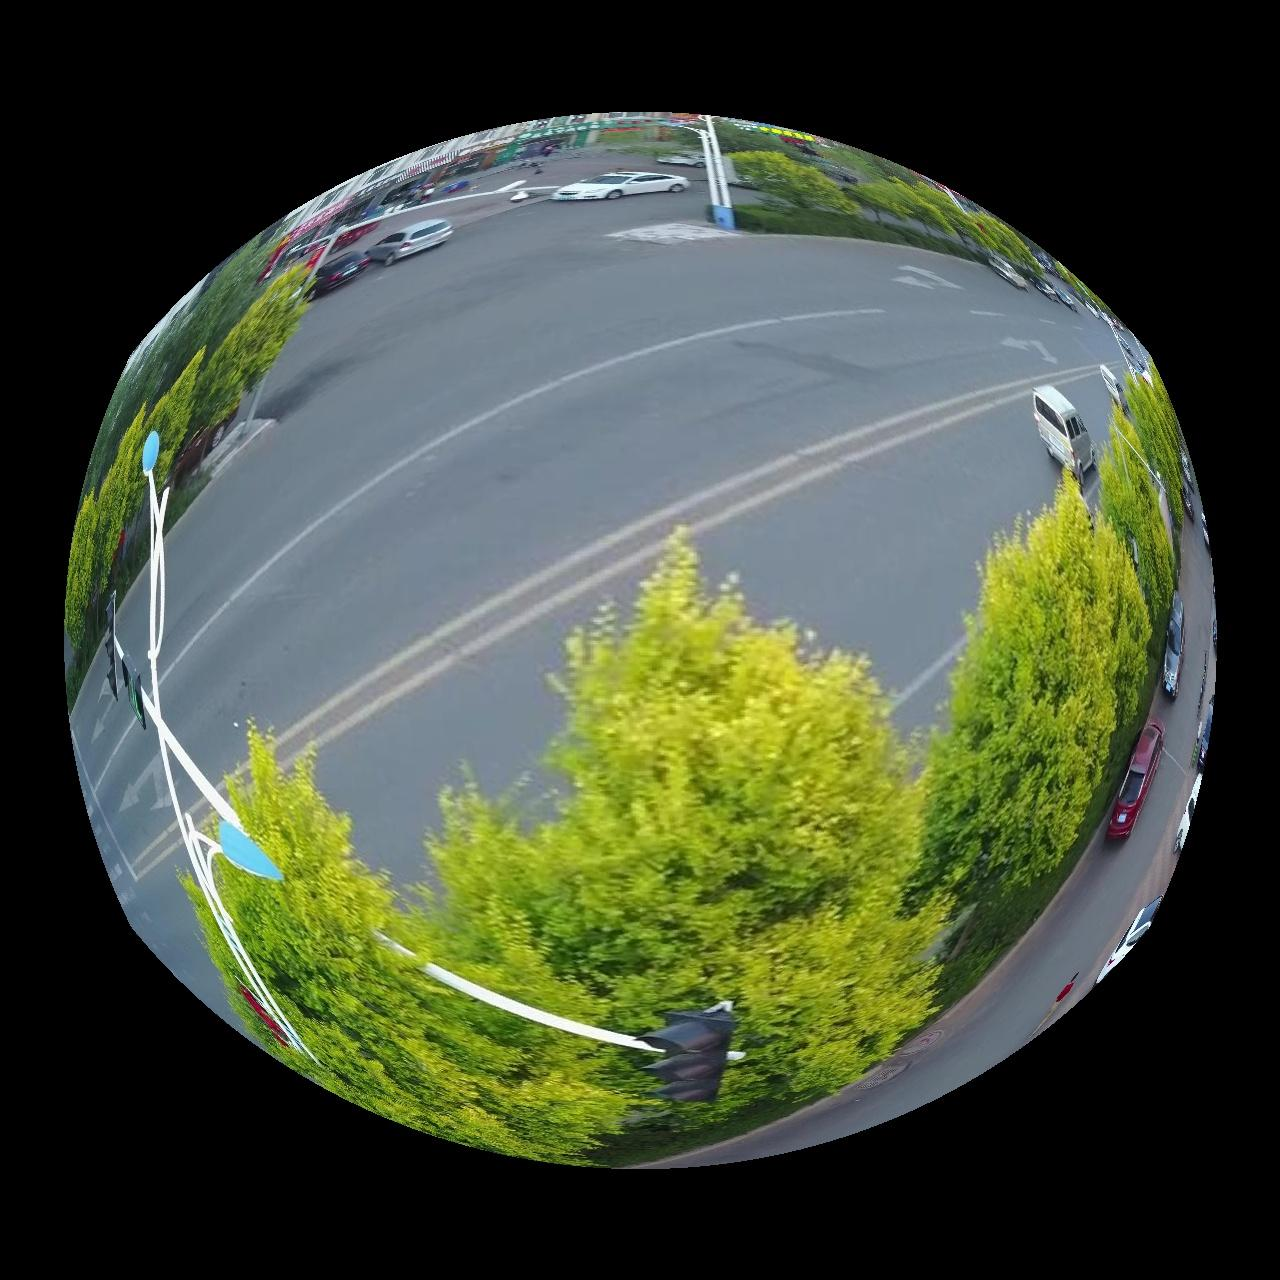cars: (1109, 719, 1167, 839), (1034, 384, 1099, 484), (551, 169, 692, 199), (367, 217, 452, 265), (309, 250, 370, 299), (1164, 592, 1189, 700)
trees: (215, 533, 946, 1164), (922, 478, 1155, 905), (84, 226, 278, 490), (63, 347, 203, 651), (189, 265, 307, 431), (1102, 429, 1179, 622), (1126, 372, 1187, 524), (731, 149, 860, 215), (856, 176, 955, 232)
